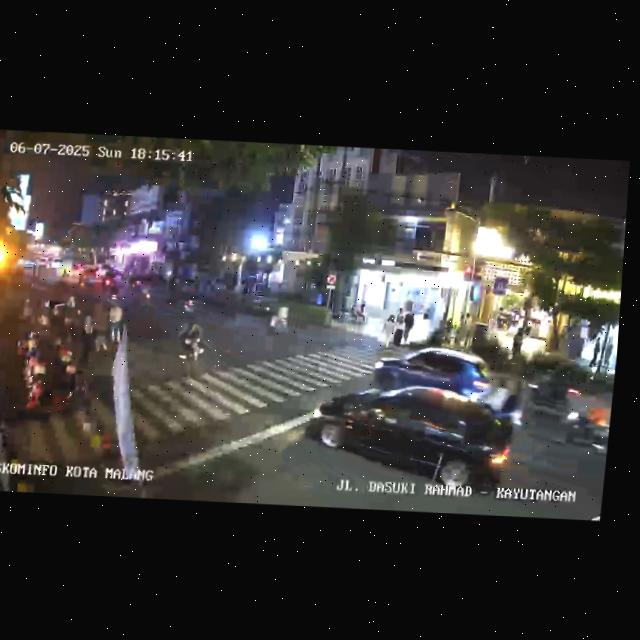car: (299, 377, 515, 500), (368, 348, 496, 400)
motorcycle: (176, 318, 208, 365), (266, 302, 292, 336), (179, 284, 198, 316), (37, 299, 56, 331), (135, 284, 154, 308), (105, 284, 124, 303)
person: (104, 302, 128, 347), (78, 309, 98, 361), (60, 296, 78, 339), (400, 310, 415, 347), (382, 311, 397, 347), (392, 307, 405, 346), (510, 324, 524, 359), (602, 338, 614, 368), (590, 337, 601, 368)
